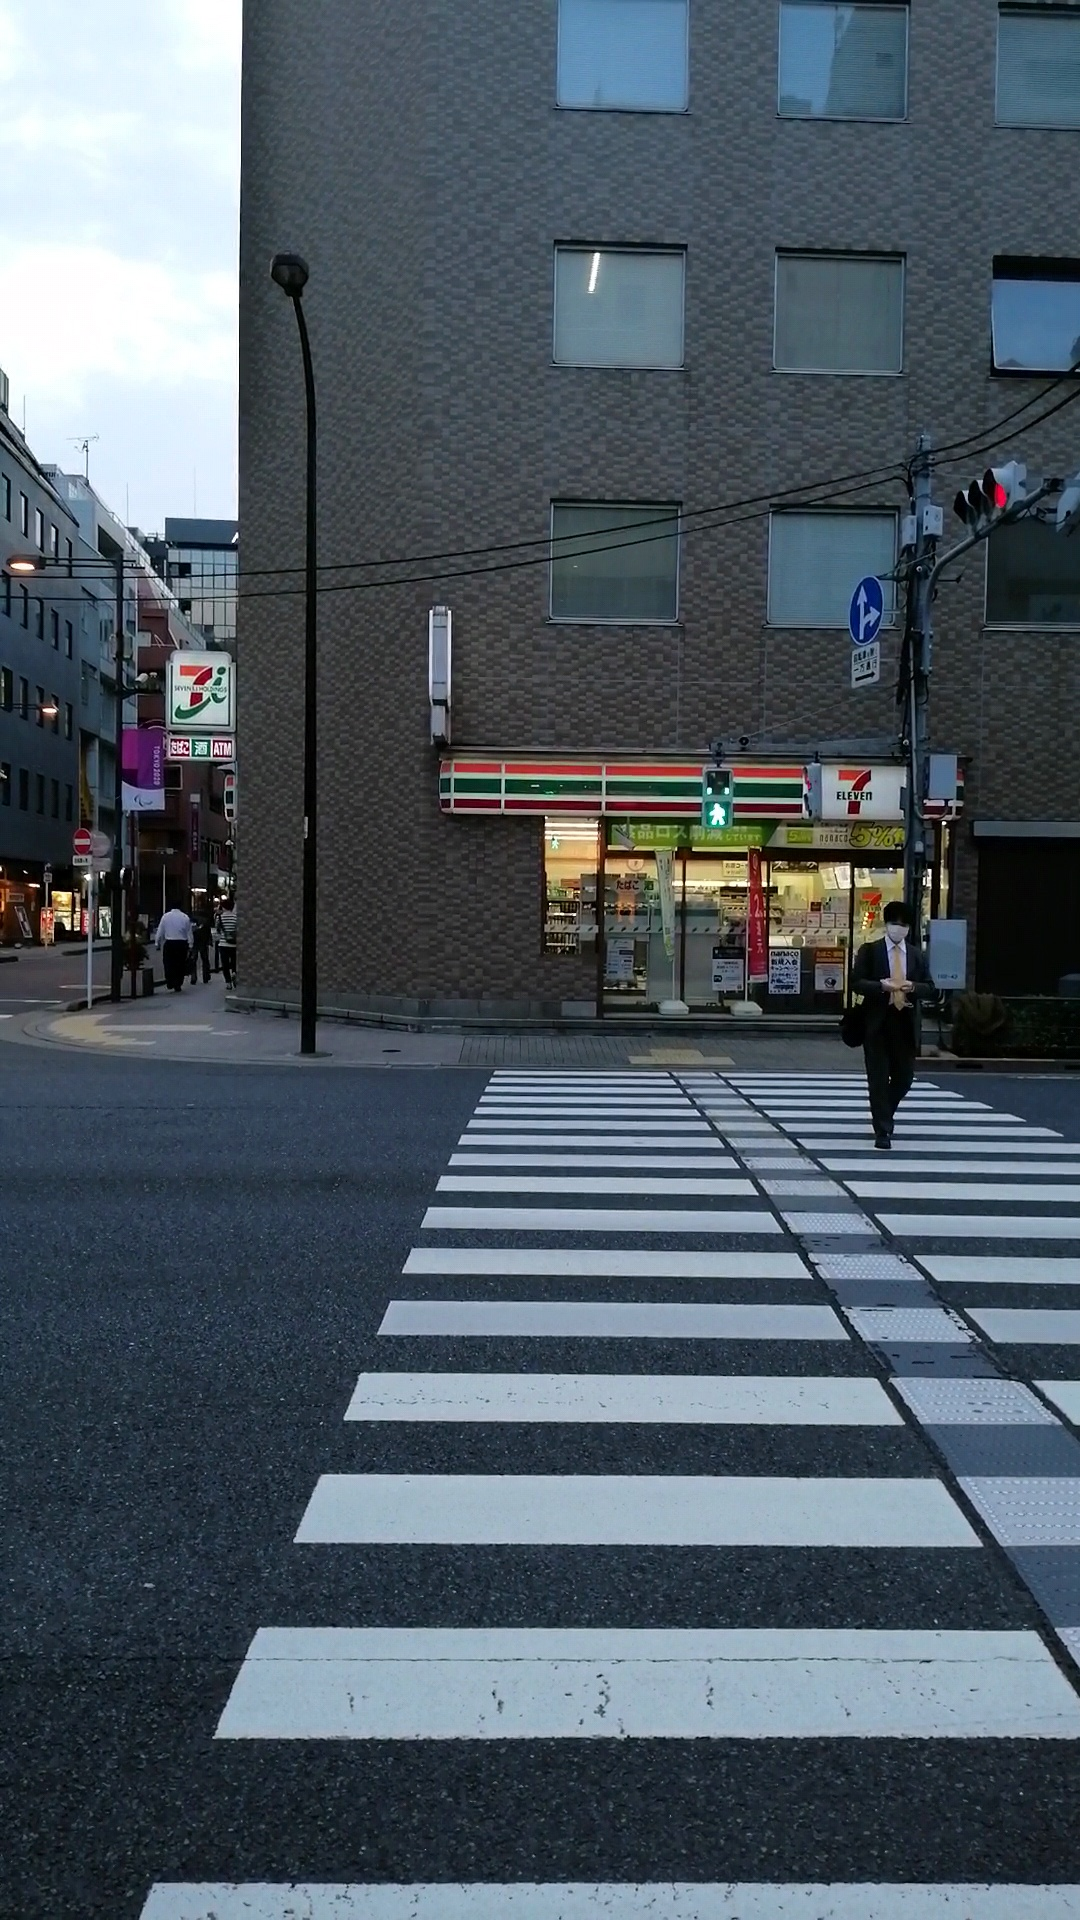green: (700, 766, 733, 829)
